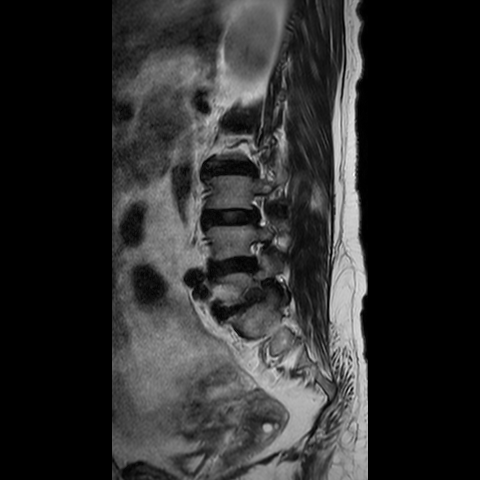LFS1: (237, 187, 282, 234)
